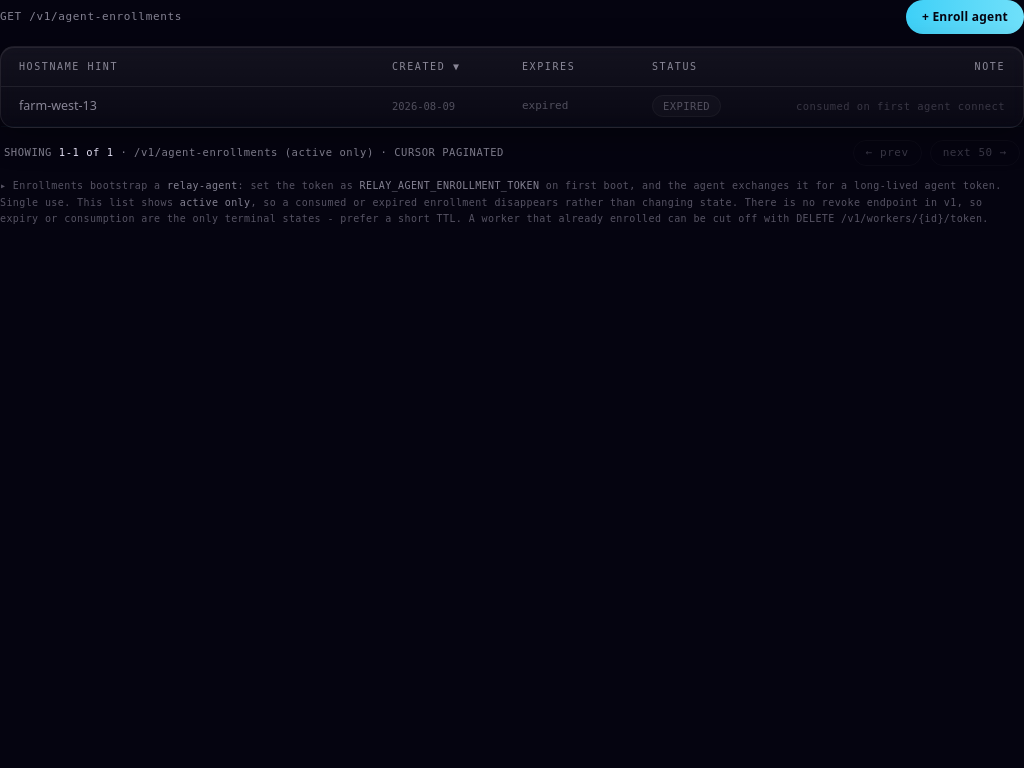
Test case: creating posts the exact body, opens the reveal dialog, and refreshes the list
The image size is (1024, 768).
Expected: the text "farm-west-13" is shown, [19,97,97,114]
Click the button "+ Enroll agent" at (965, 17), box [906,0,1023,34]
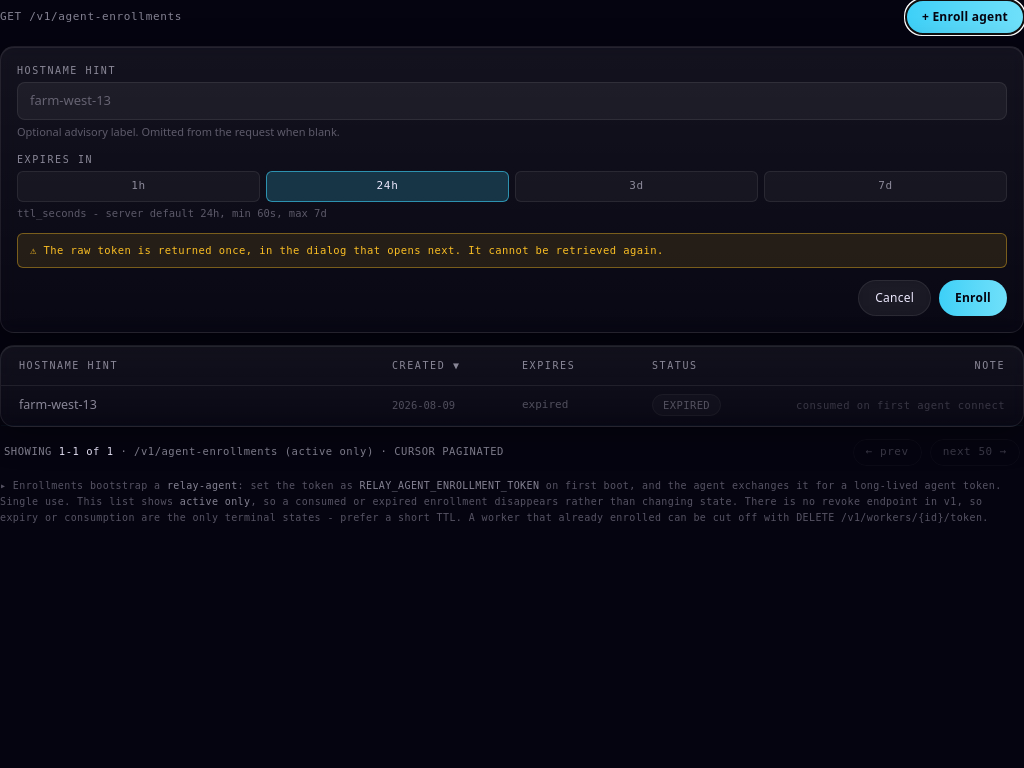
Type "farm-east-01" into the field labelled "Hostname hint" at (512, 101), box [17,82,1007,120]
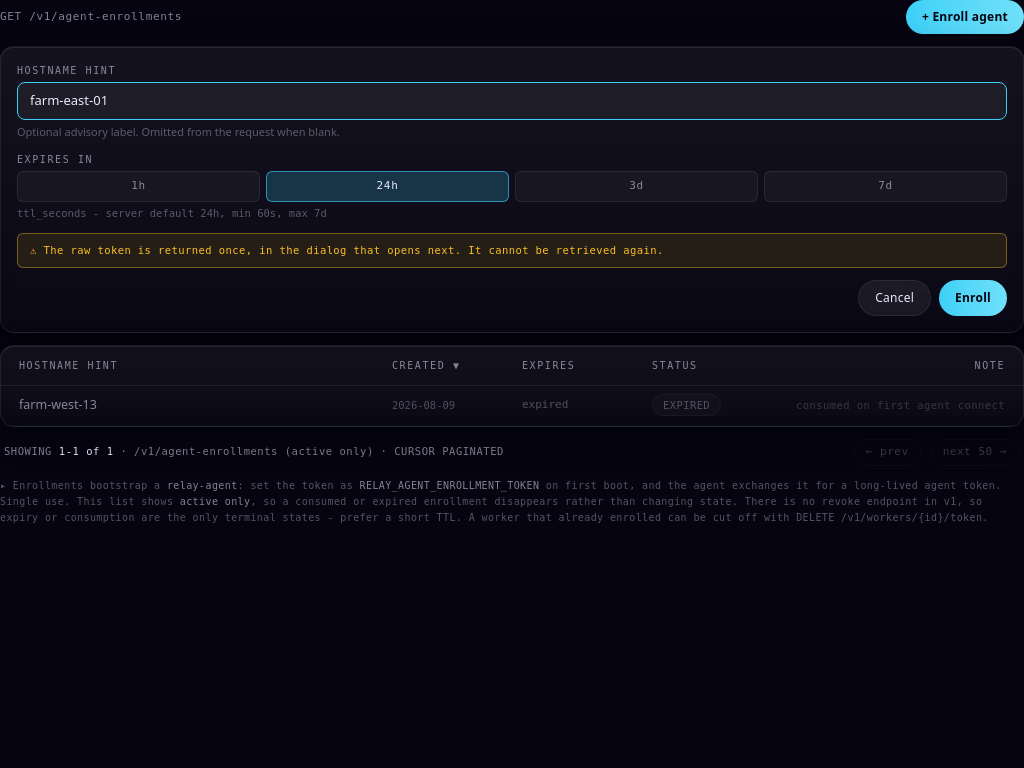
Click the button "Enroll" at (973, 298), box [939,280,1007,316]
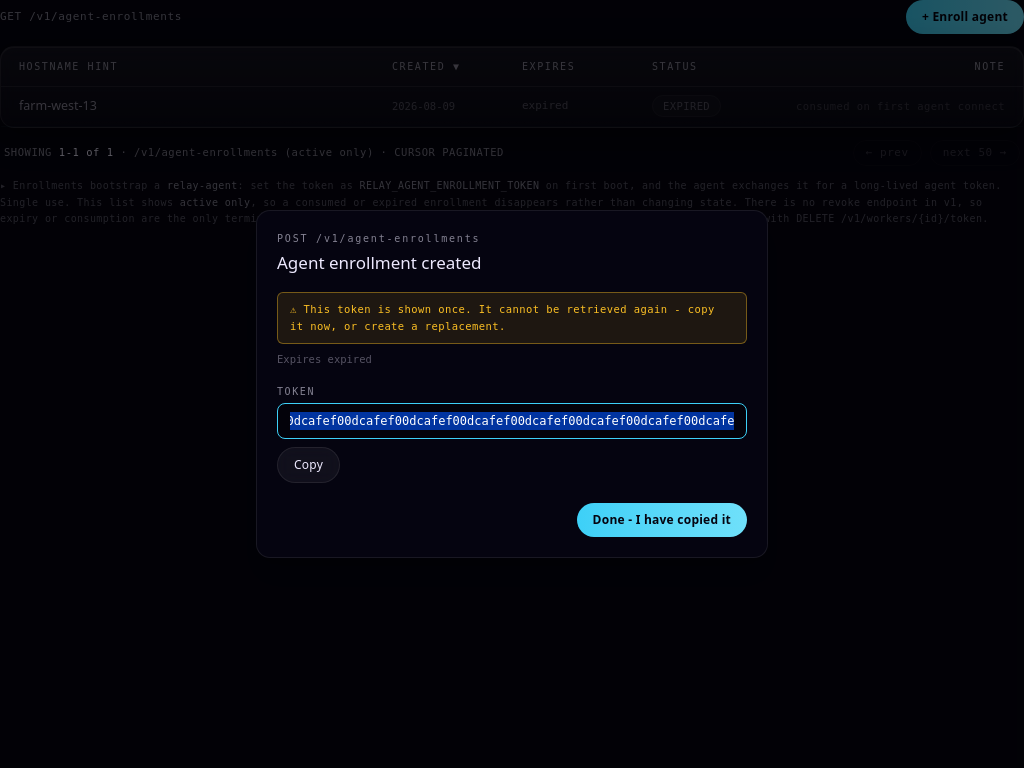
Expected: the dialog shows "cannot be retrieved again", [290,303,715,332]
Expected: the dialog shows "expires", [277,353,328,365]
Click the button "Done - I have copied it" at (662, 520), box [577,503,747,537]
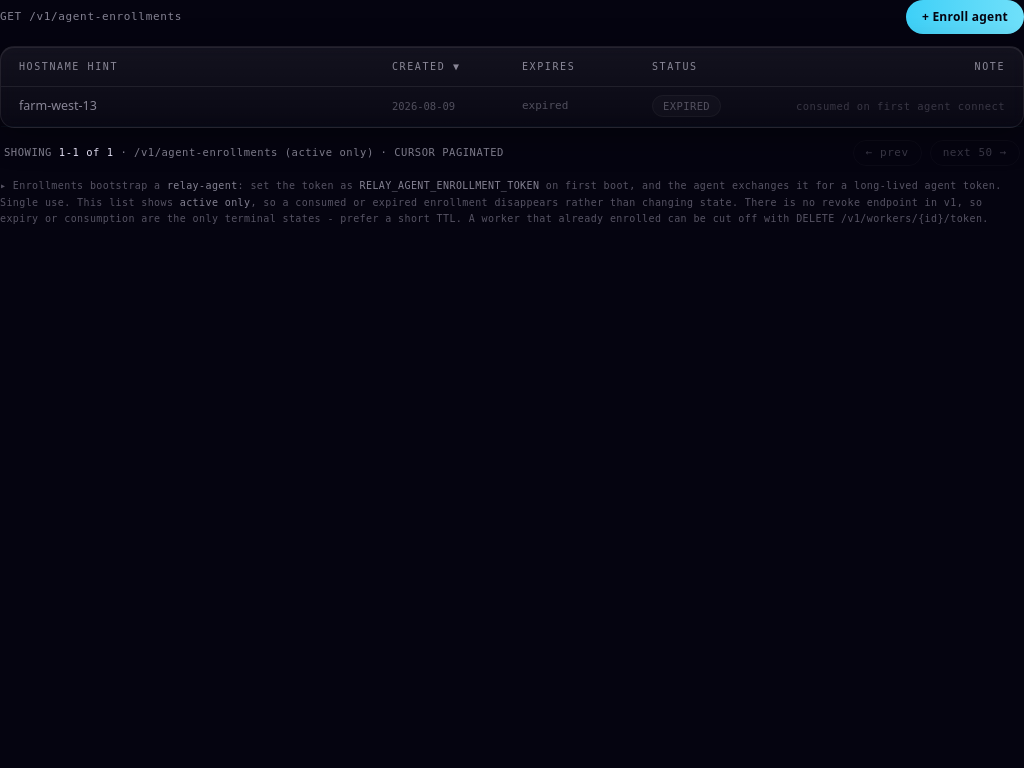
Expected: the dialog is gone
